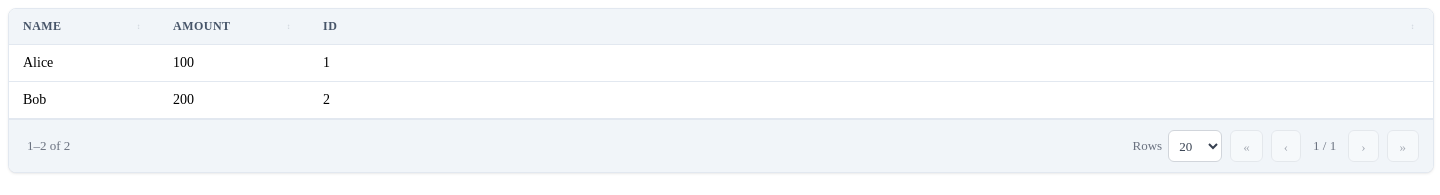
Test: Inline cell editing › activating edit mode › double-clicking an editable cell shows an input
Double-click the cell "Alice" at (84,63), box x1=9 y1=44 x2=159 y2=82
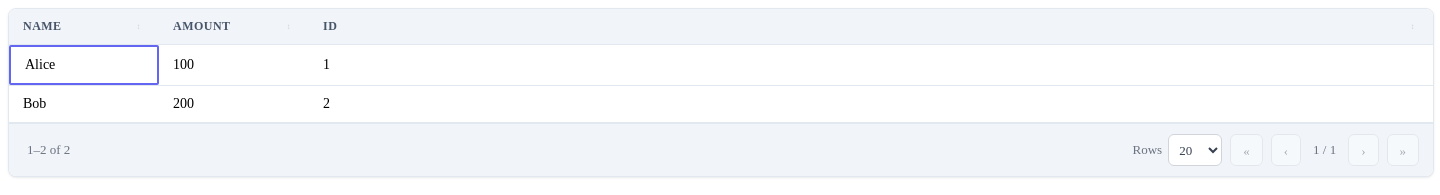
expect the field named "Edit Name" is shown: met, box x1=9 y1=45 x2=159 y2=85
